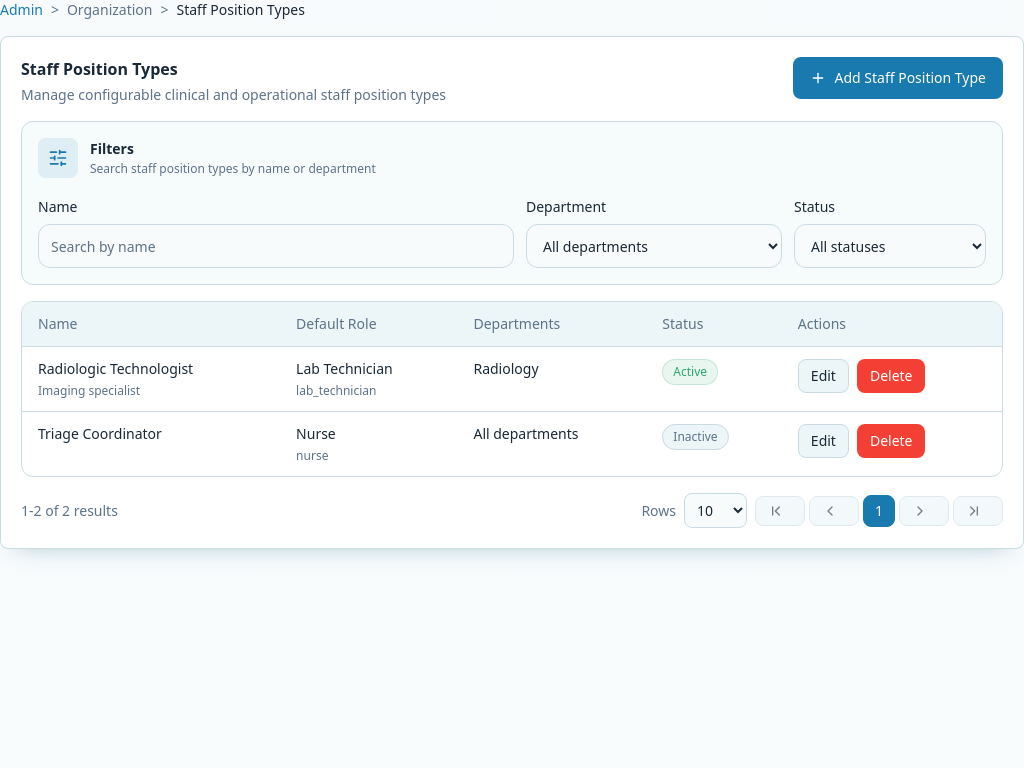
Test: StaffPositionTypesPage › validates required name and default role fields
The image size is (1024, 768).
Check: the text "Radiologic Technologist" is shown, box [38,359,193,378]
Click the button "Add Staff Position Type" at coordinates (898, 78), box [794,57,1003,99]
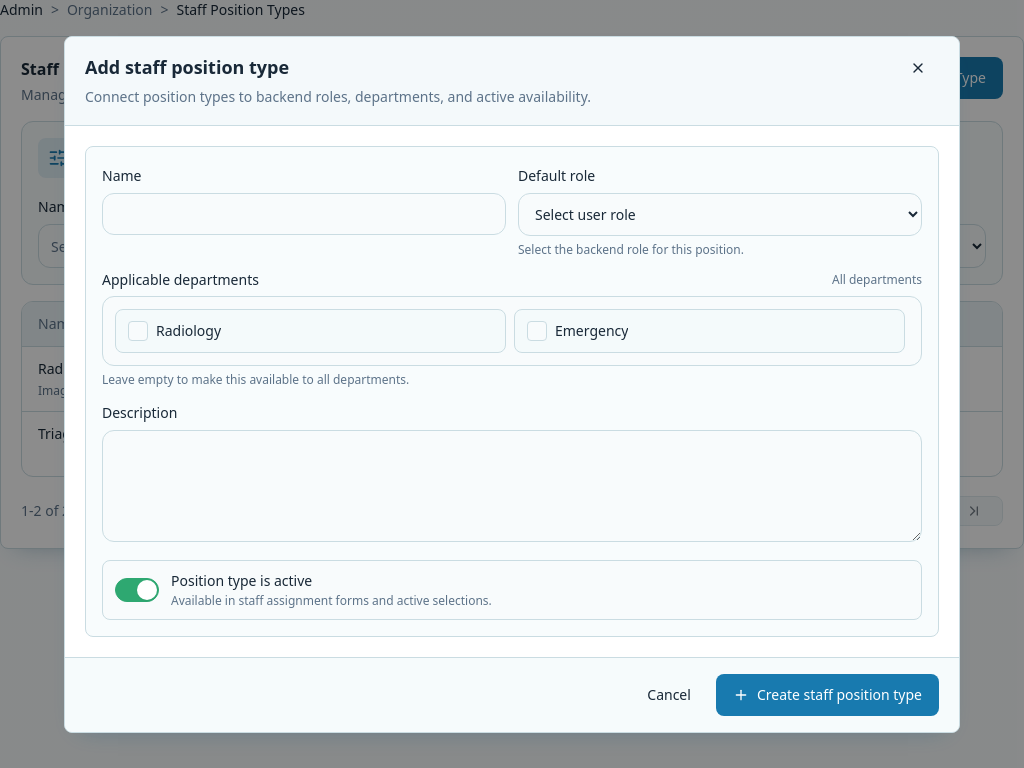
Click the button "Create staff position type" at coordinates (827, 694), box [716,674,939,716]
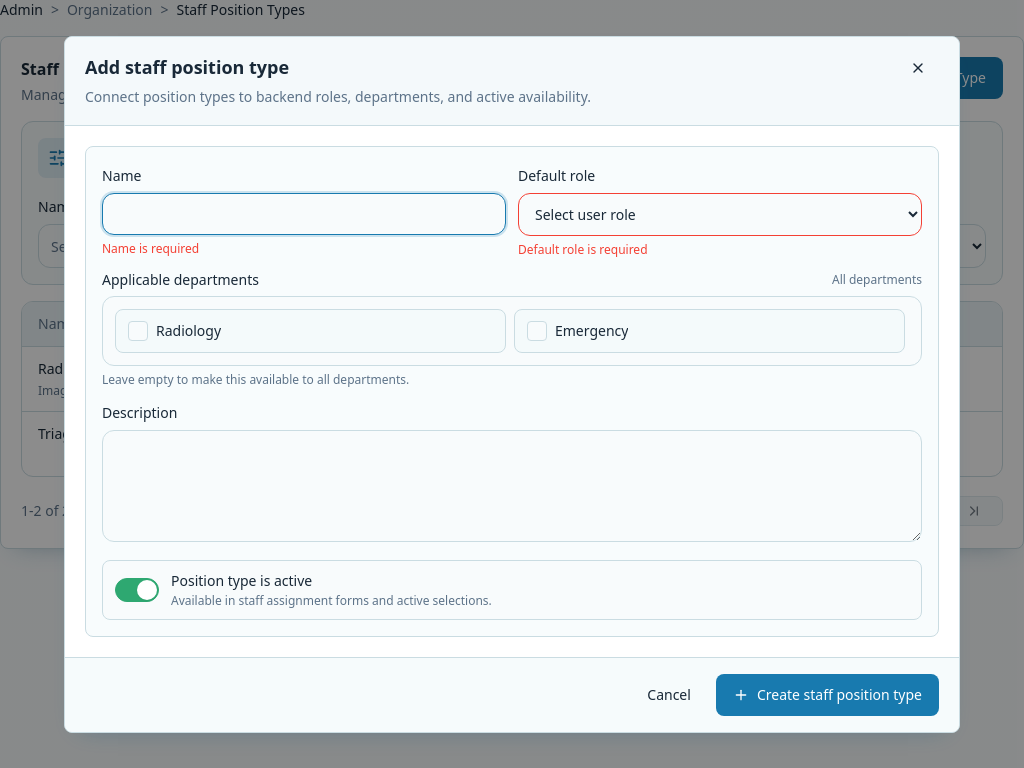
Check: the text "Name is required" is shown, box [102,240,199,256]
Check: the text "Default role is required" is shown, box [518,240,648,258]
